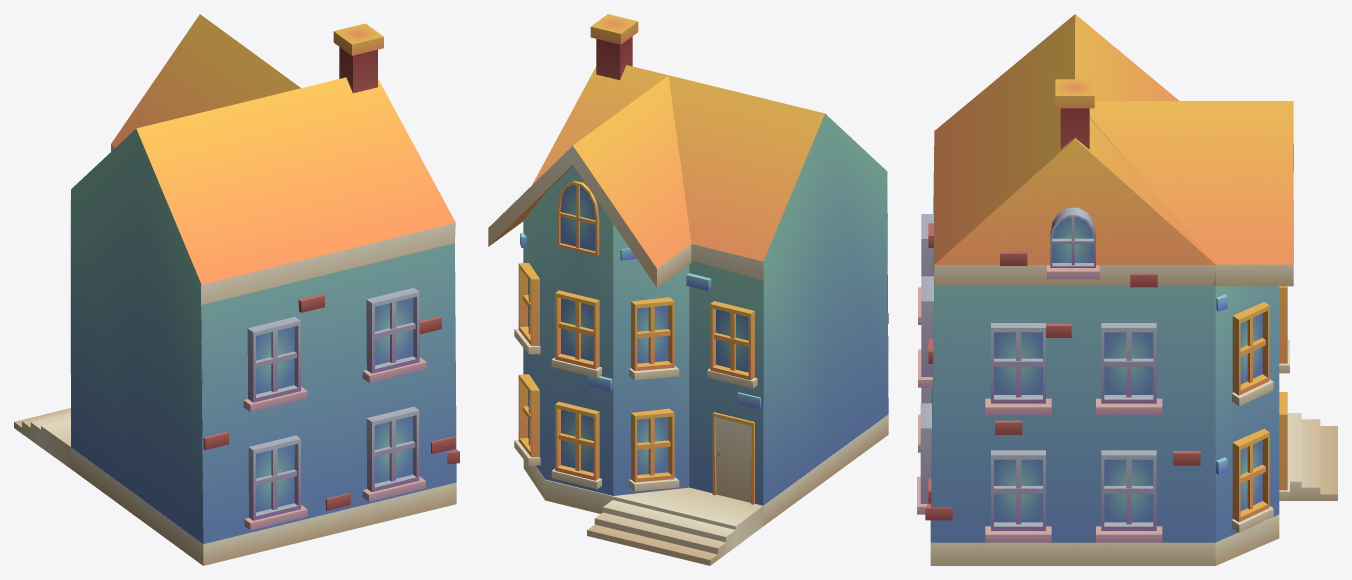
File: SM_House_L_Short_03.fbx
3 renders of one model, left to right at view 1: azimuth 30°, elevation 25°; view 2: azimuth 150°, elevation 25°; view 3: azimuth 270°, elevation 25°, orthographic. The views are drawn at different scales.
Visible parts, largest first — view 1: SM_House_L_Short_03; view 2: SM_House_L_Short_03; view 3: SM_House_L_Short_03.
Part boxes in pixels (box(x1,y1,x2,y2)): SM_House_L_Short_03: box(14, 14, 459, 565); SM_House_L_Short_03: box(488, 14, 888, 565); SM_House_L_Short_03: box(917, 14, 1337, 565).
Size of the model in its own units: 7.23 by 9.05 by 10.97.
